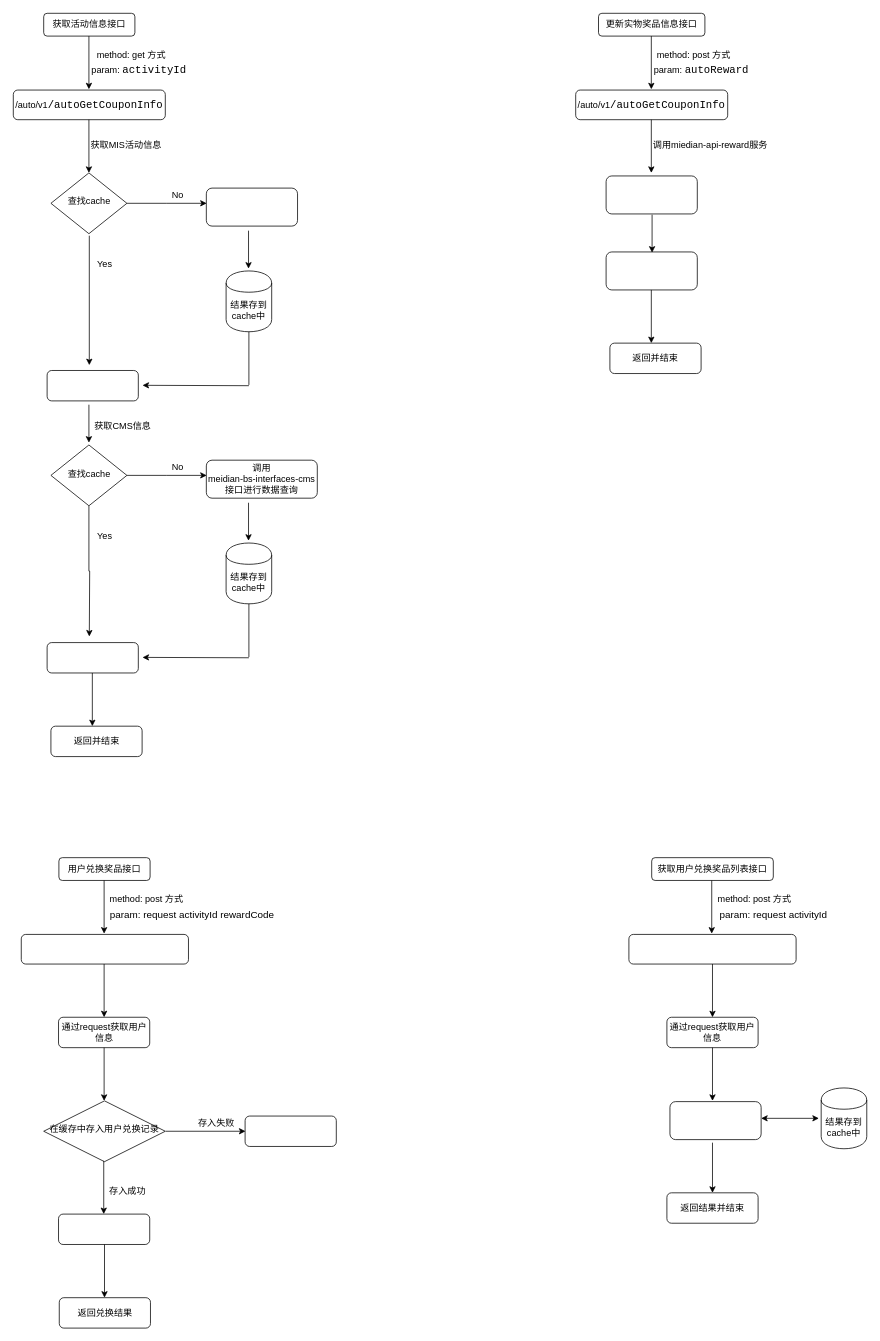
Image size: 880x1341. Some labels were removed from this diagram. Here are the shapes that lost their labels. From the top down, the centre of each, then its label:
At (252,206): "调用 bs-interfaces-score 接口进行数据查询".
At (651,194): "调用 updateAutoReward 接口进行数据更新".
At (651,270): "update数据表 auto_reward".
At (92,385): "返回 M IS活动信息".
At (92,657): "返回CMS信息".
At (104,949): "/auto/v1 / autoGetCouponToUser".
At (712,949): "/auto/v1 / getUserExchangeList".
At (290,1130): "返回 10004".
At (715,1120): "调用 meidian-api-reward 接口进行数据查询".
At (104,1228): "用户进行兑换".
